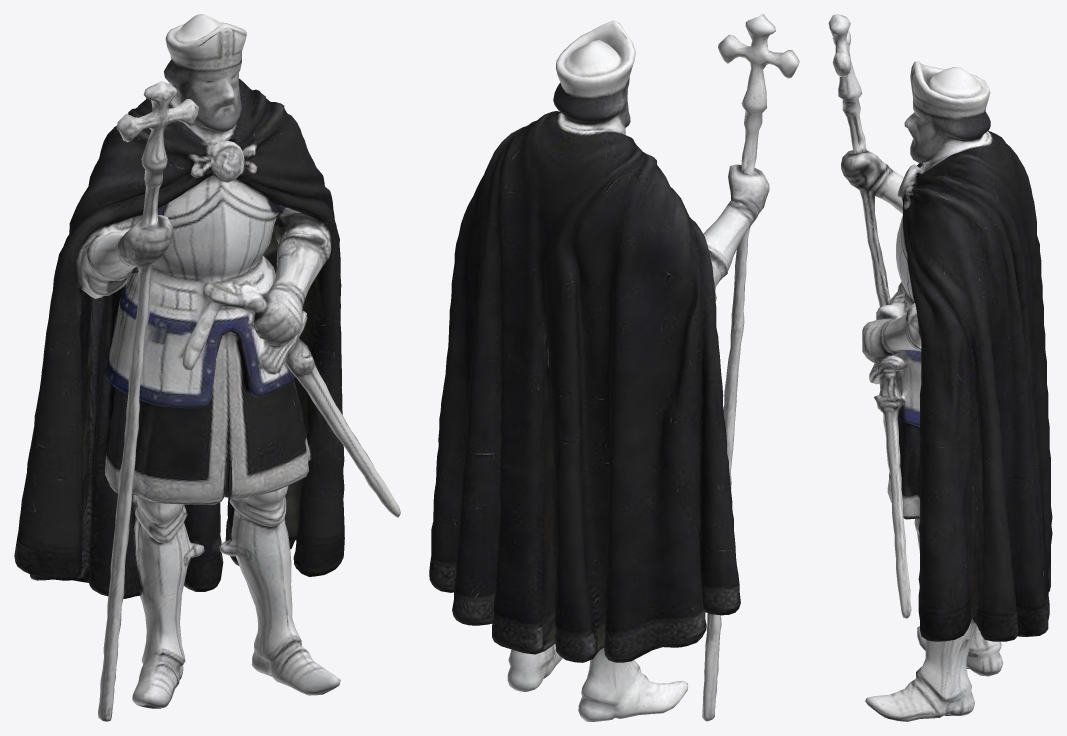
File: Clergy_Crusader.glb
3 views of the same model, side by side, from view 1: azimuth 30°, elevation 25°; view 2: azimuth 150°, elevation 25°; view 3: azimuth 270°, elevation 25° (orthographic). The views are drawn at different scales.
Size of the model in its own units: 0.9863 by 1.91 by 0.6223.
1 material, 1 textured.
